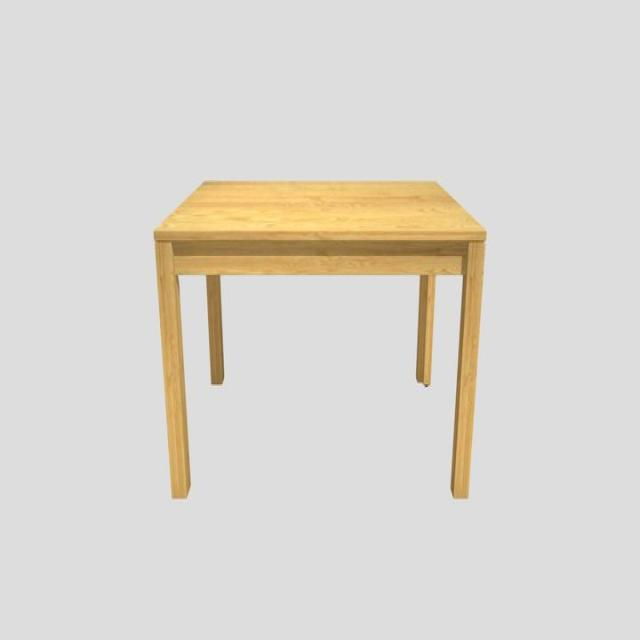table: (152, 175, 488, 500)
